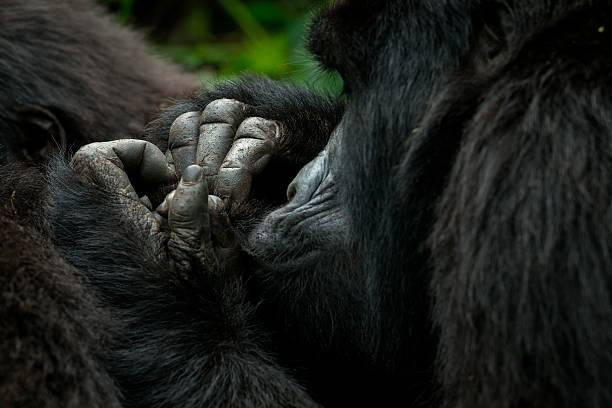goriile_montagne: (240, 0, 610, 406)
